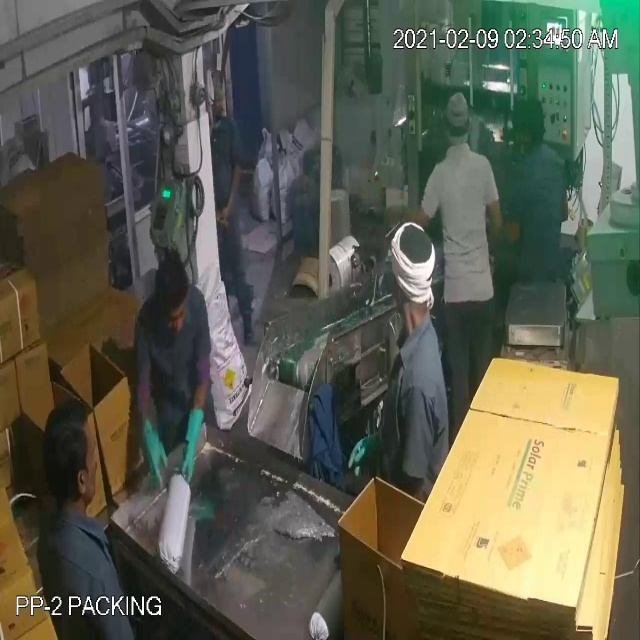Guantes: (127, 410, 176, 500), (174, 397, 210, 495), (338, 419, 389, 485)
Sin_guantes: (215, 150, 254, 243), (486, 185, 508, 242)
